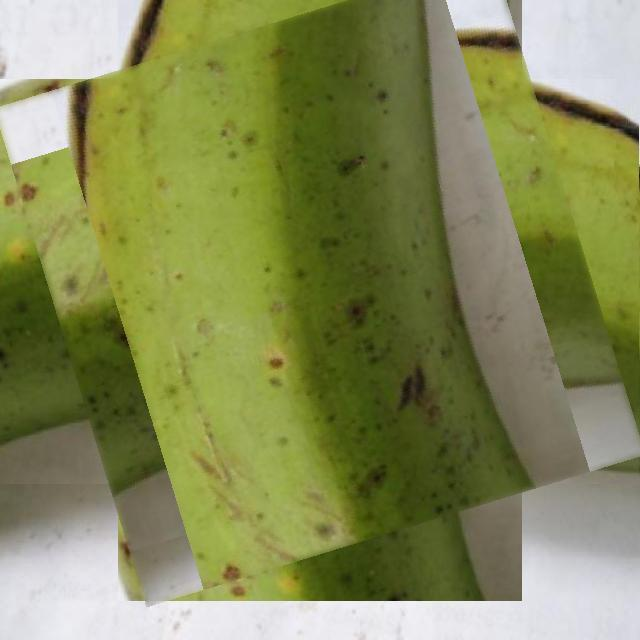Verde: (26, 0, 612, 575)
